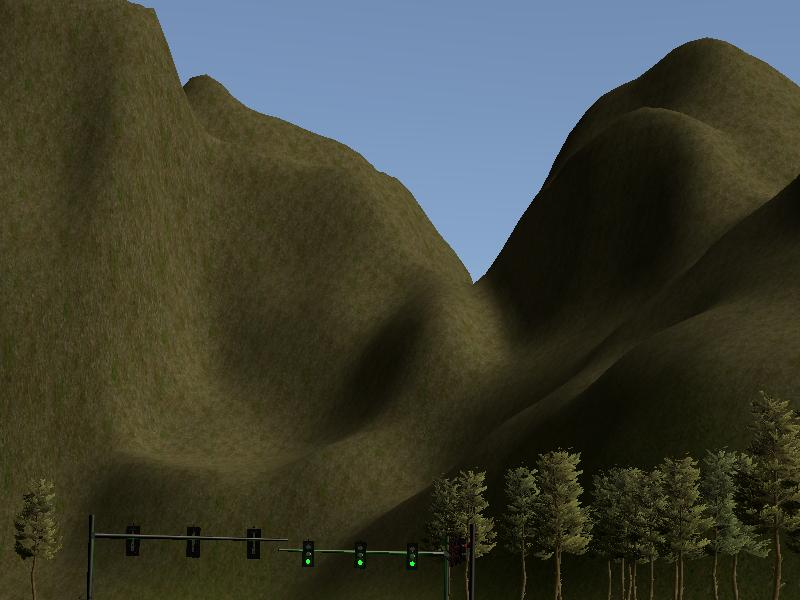Green: (405, 542, 417, 570), (355, 542, 367, 568), (302, 541, 313, 565)
